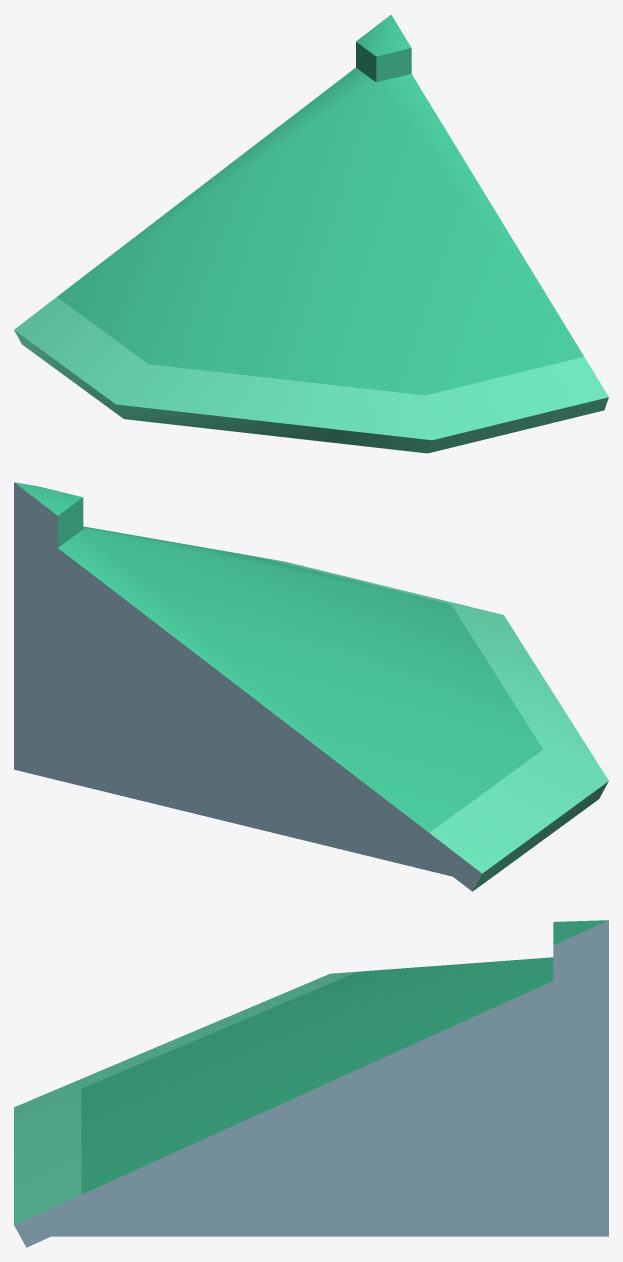
Rendered from roofCornerRound.obj.
3 renders of one model, top to bottom at view 1: azimuth 30°, elevation 25°; view 2: azimuth 150°, elevation 25°; view 3: azimuth 270°, elevation 25°, orthographic. The views are drawn at different scales.
Visible parts, largest first — view 1: roofCornerRound; view 2: roofCornerRound; view 3: roofCornerRound.
Part boxes in pixels (<box>): roofCornerRound: <box>14,15,608,453</box>; roofCornerRound: <box>14,482,608,891</box>; roofCornerRound: <box>14,920,608,1247</box>.
Size of the model in its own units: 1.07 by 0.6483 by 1.07.
